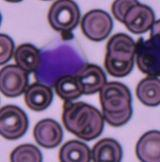L: (34, 38, 86, 88)
